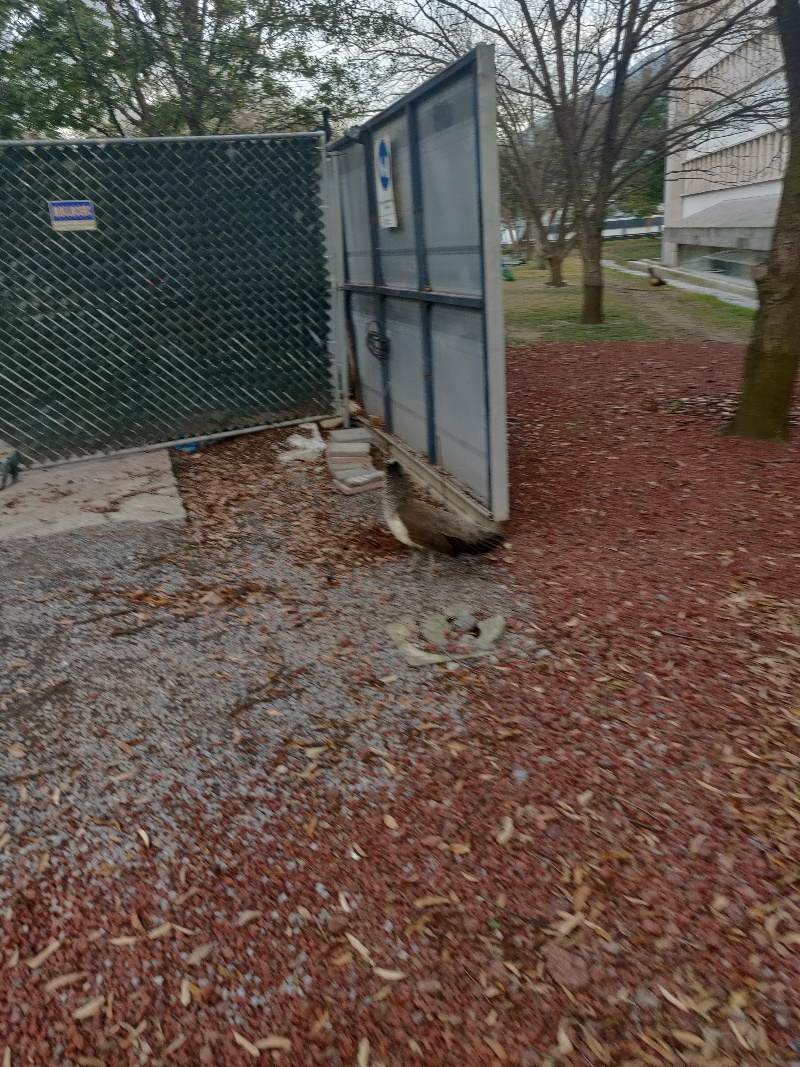pavoreal: (374, 448, 470, 556)
